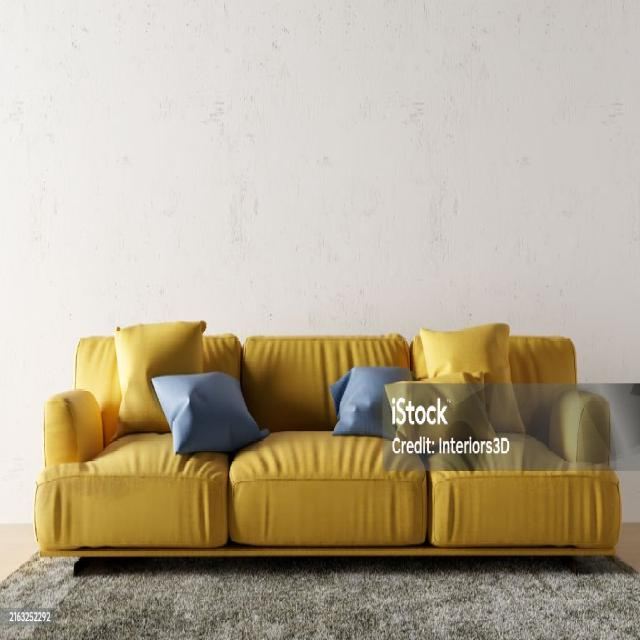back_cushion: (203, 334, 426, 431), (74, 337, 121, 443), (509, 336, 576, 384), (518, 391, 548, 437)
left_arm: (549, 389, 610, 461)
right_arm: (44, 391, 102, 466)
seat_cushion: (34, 428, 621, 553)
stallion-sofa: (34, 329, 621, 608)
